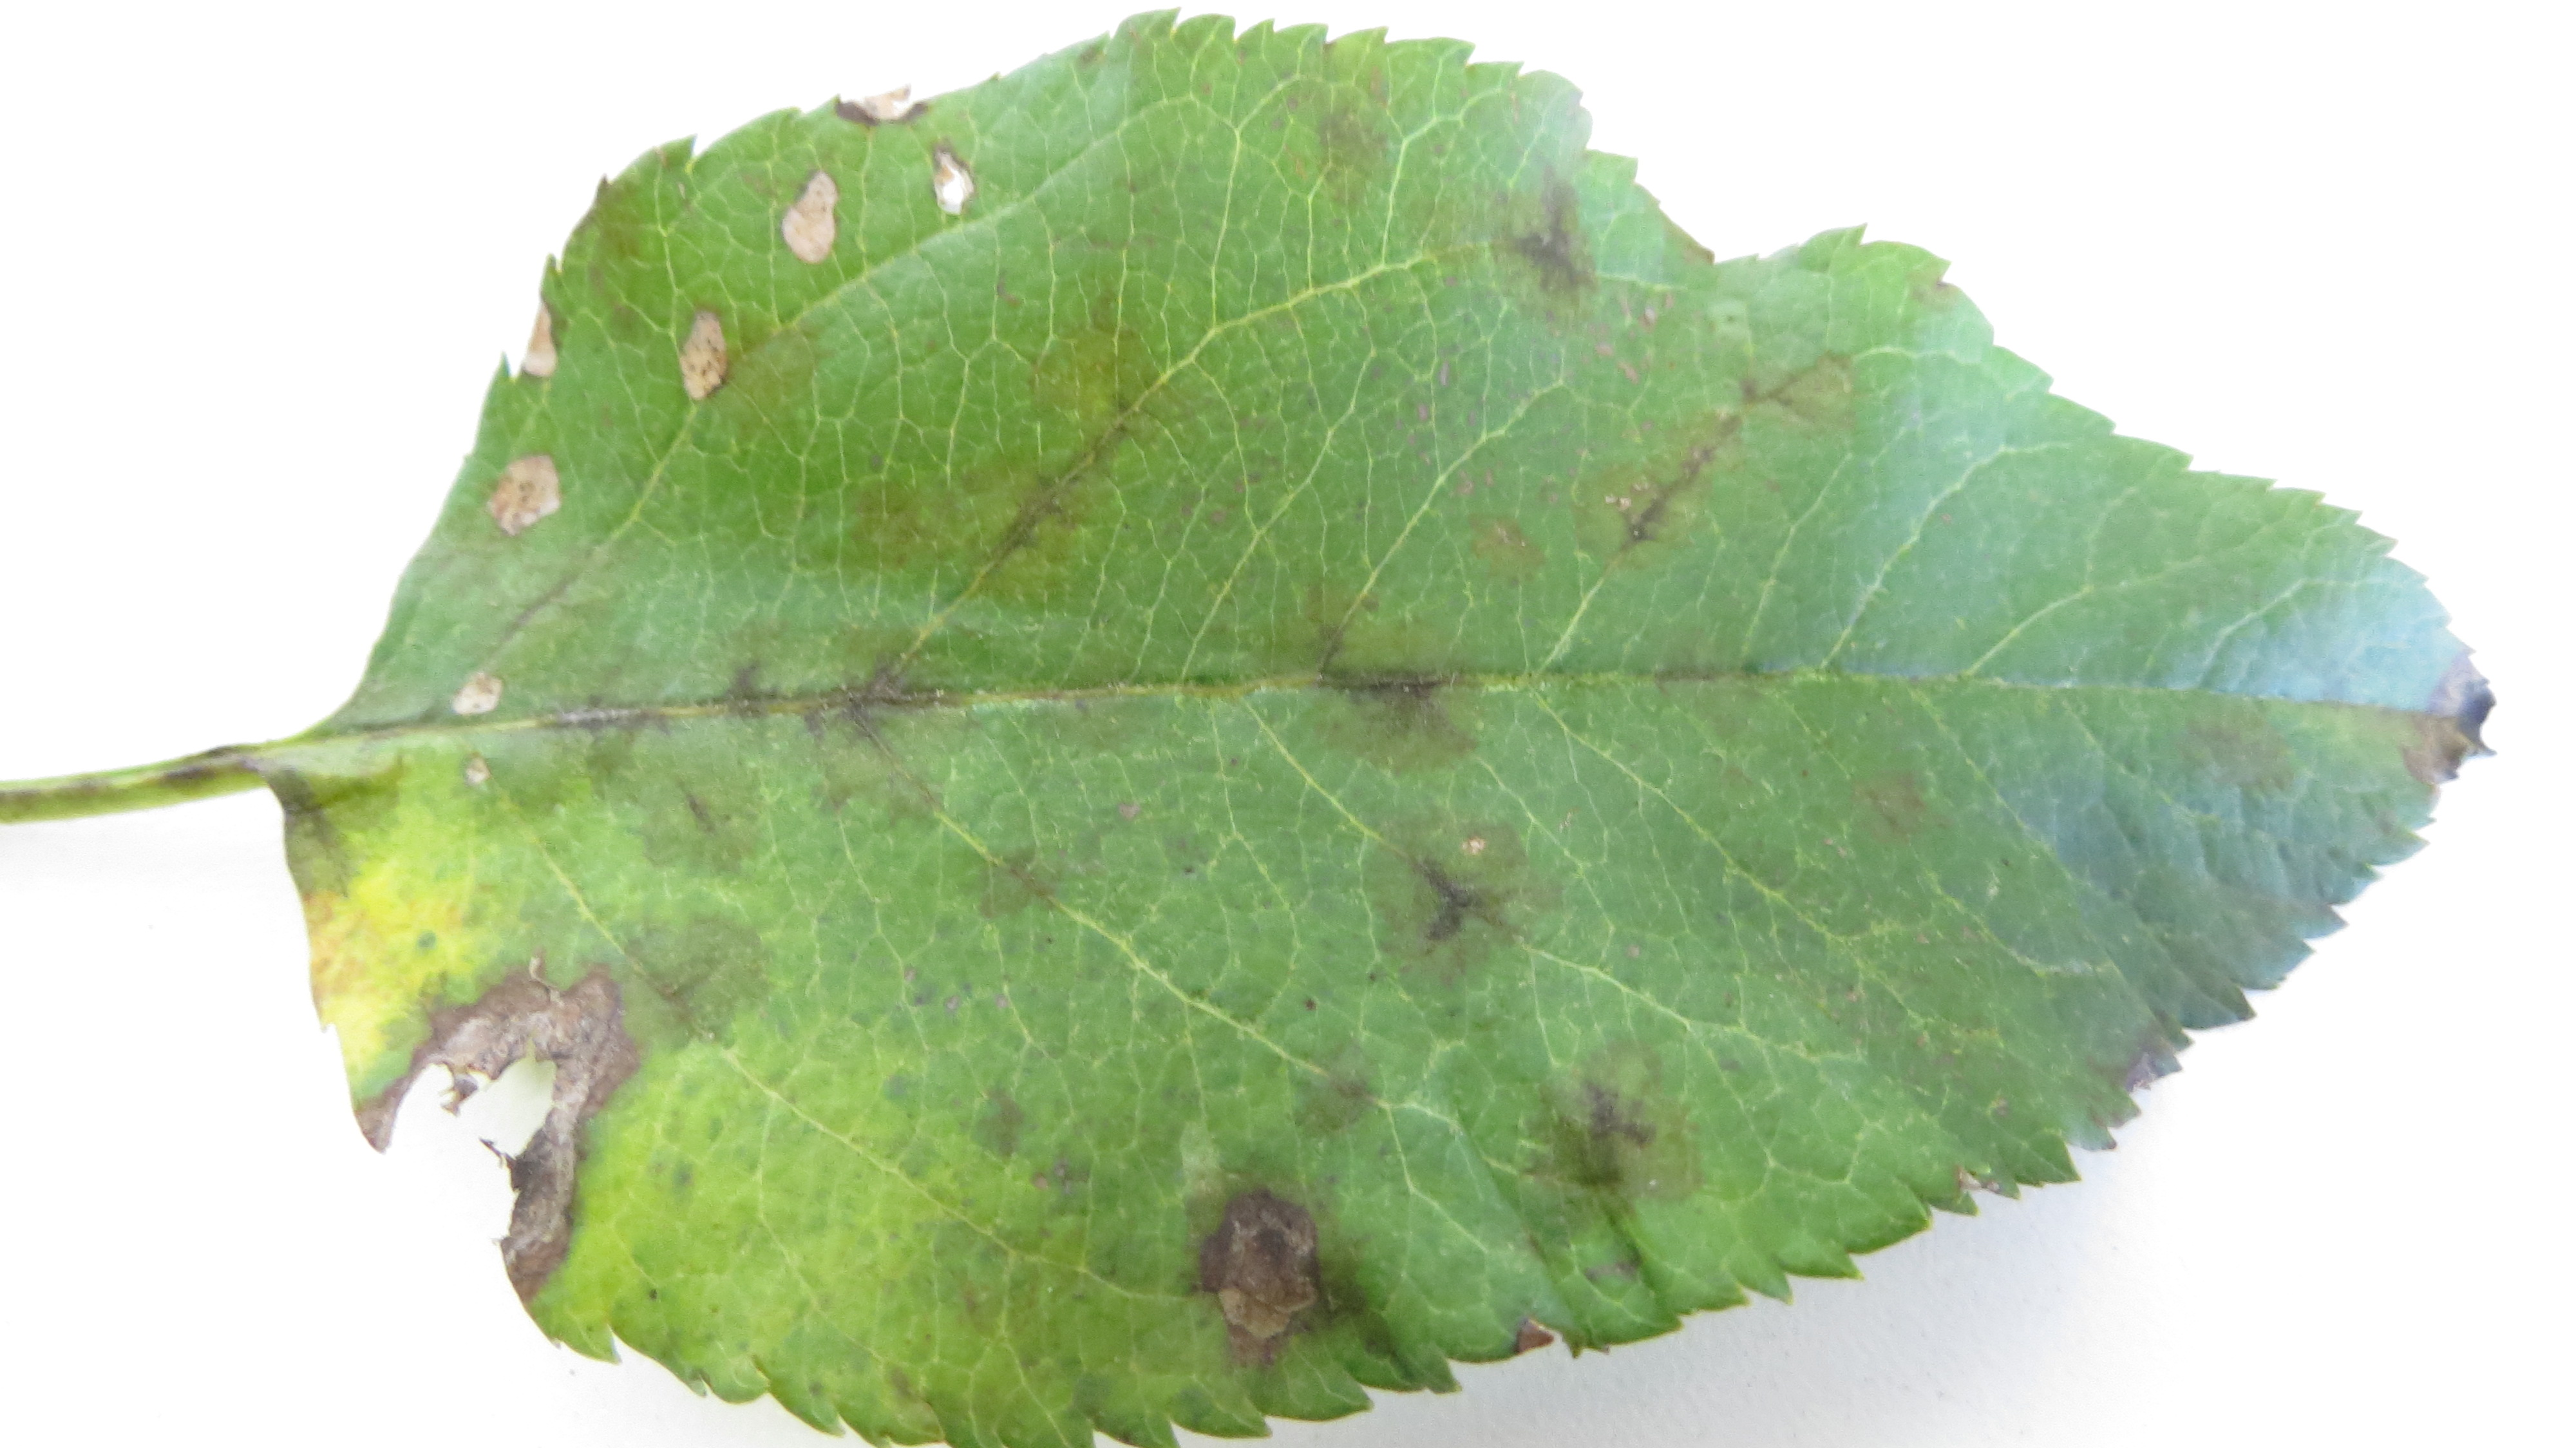sarna: (1513, 1020, 1706, 1237), (1299, 612, 1504, 793), (1371, 813, 1548, 1013), (1166, 1177, 1336, 1354), (821, 632, 985, 804), (607, 890, 764, 1067), (1440, 159, 1608, 322), (1267, 35, 1414, 205), (1587, 450, 1741, 598), (971, 437, 1104, 609), (1019, 297, 1159, 451), (525, 655, 658, 804), (1716, 354, 1870, 481), (1654, 612, 1792, 751), (855, 448, 980, 591), (644, 742, 768, 885), (2388, 637, 2505, 788), (955, 813, 1095, 936), (681, 303, 821, 423), (699, 627, 817, 752), (1281, 1032, 1391, 1159), (1016, 1124, 1123, 1241), (1844, 743, 1962, 850), (950, 1057, 1047, 1174)
